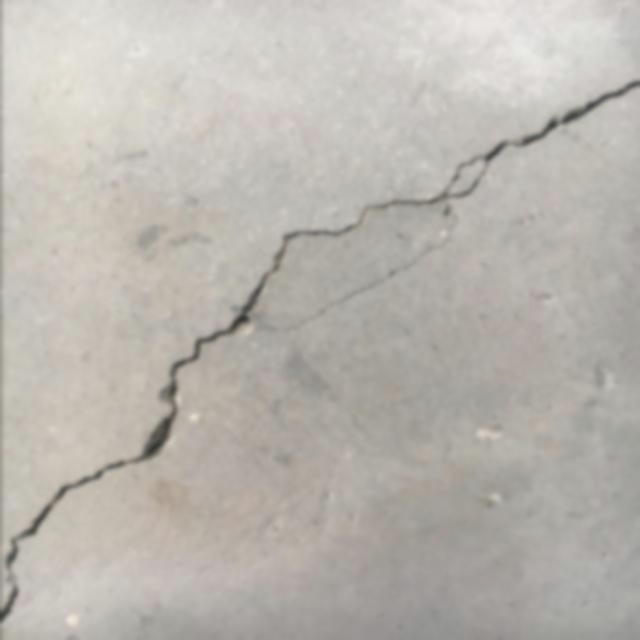SurfaceCrack: (0, 1, 639, 640)
